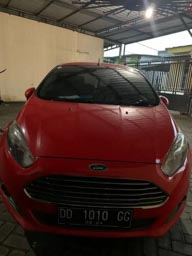plat: (59, 207, 132, 223)
